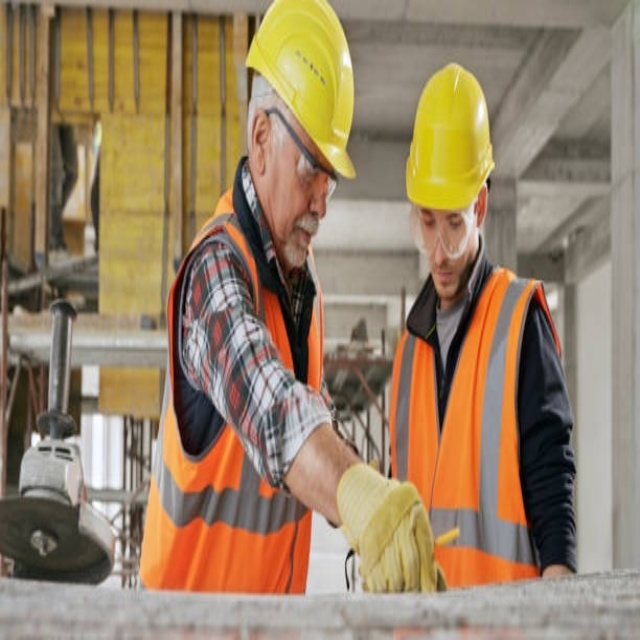Gafas: (266, 93, 341, 209), (408, 201, 483, 258)
Guantes: (335, 461, 446, 593)
Sin_mascara: (431, 262, 460, 301), (290, 217, 314, 260)
